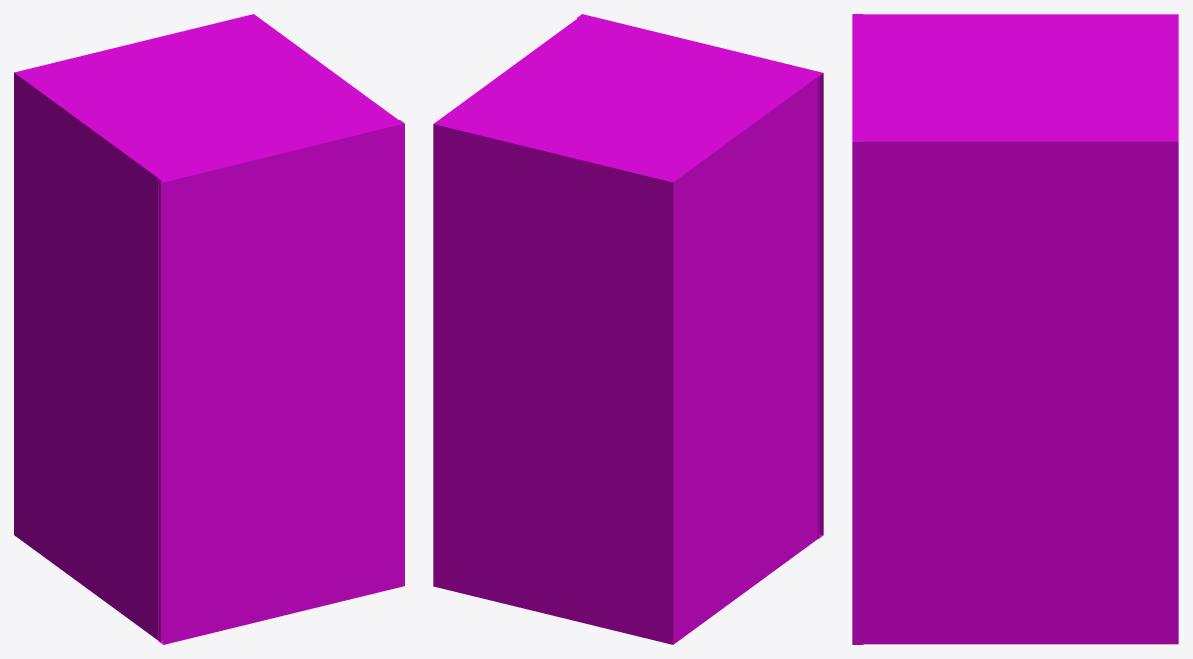
3 renders of one model, left to right at view 1: azimuth 30°, elevation 25°; view 2: azimuth 150°, elevation 25°; view 3: azimuth 270°, elevation 25°, orthographic. The views are drawn at different scales.
Parts seen in each view (by area): view 1: FridgeDoor_001, FridgeBase_001; view 2: FridgeBase_001, FridgeDoor_001; view 3: FridgeBase_001, FridgeDoor_001.
Part boxes in pixels (<box>): FridgeDoor_001: <box>158,120,404,644</box>; FridgeBase_001: <box>14,14,399,641</box>; FridgeBase_001: <box>433,17,819,644</box>; FridgeDoor_001: <box>577,14,823,538</box>; FridgeBase_001: <box>860,14,1178,644</box>; FridgeDoor_001: <box>852,14,863,644</box>.
Bounding box in the file's own units: 12.31 × 22.53 × 13.25.
